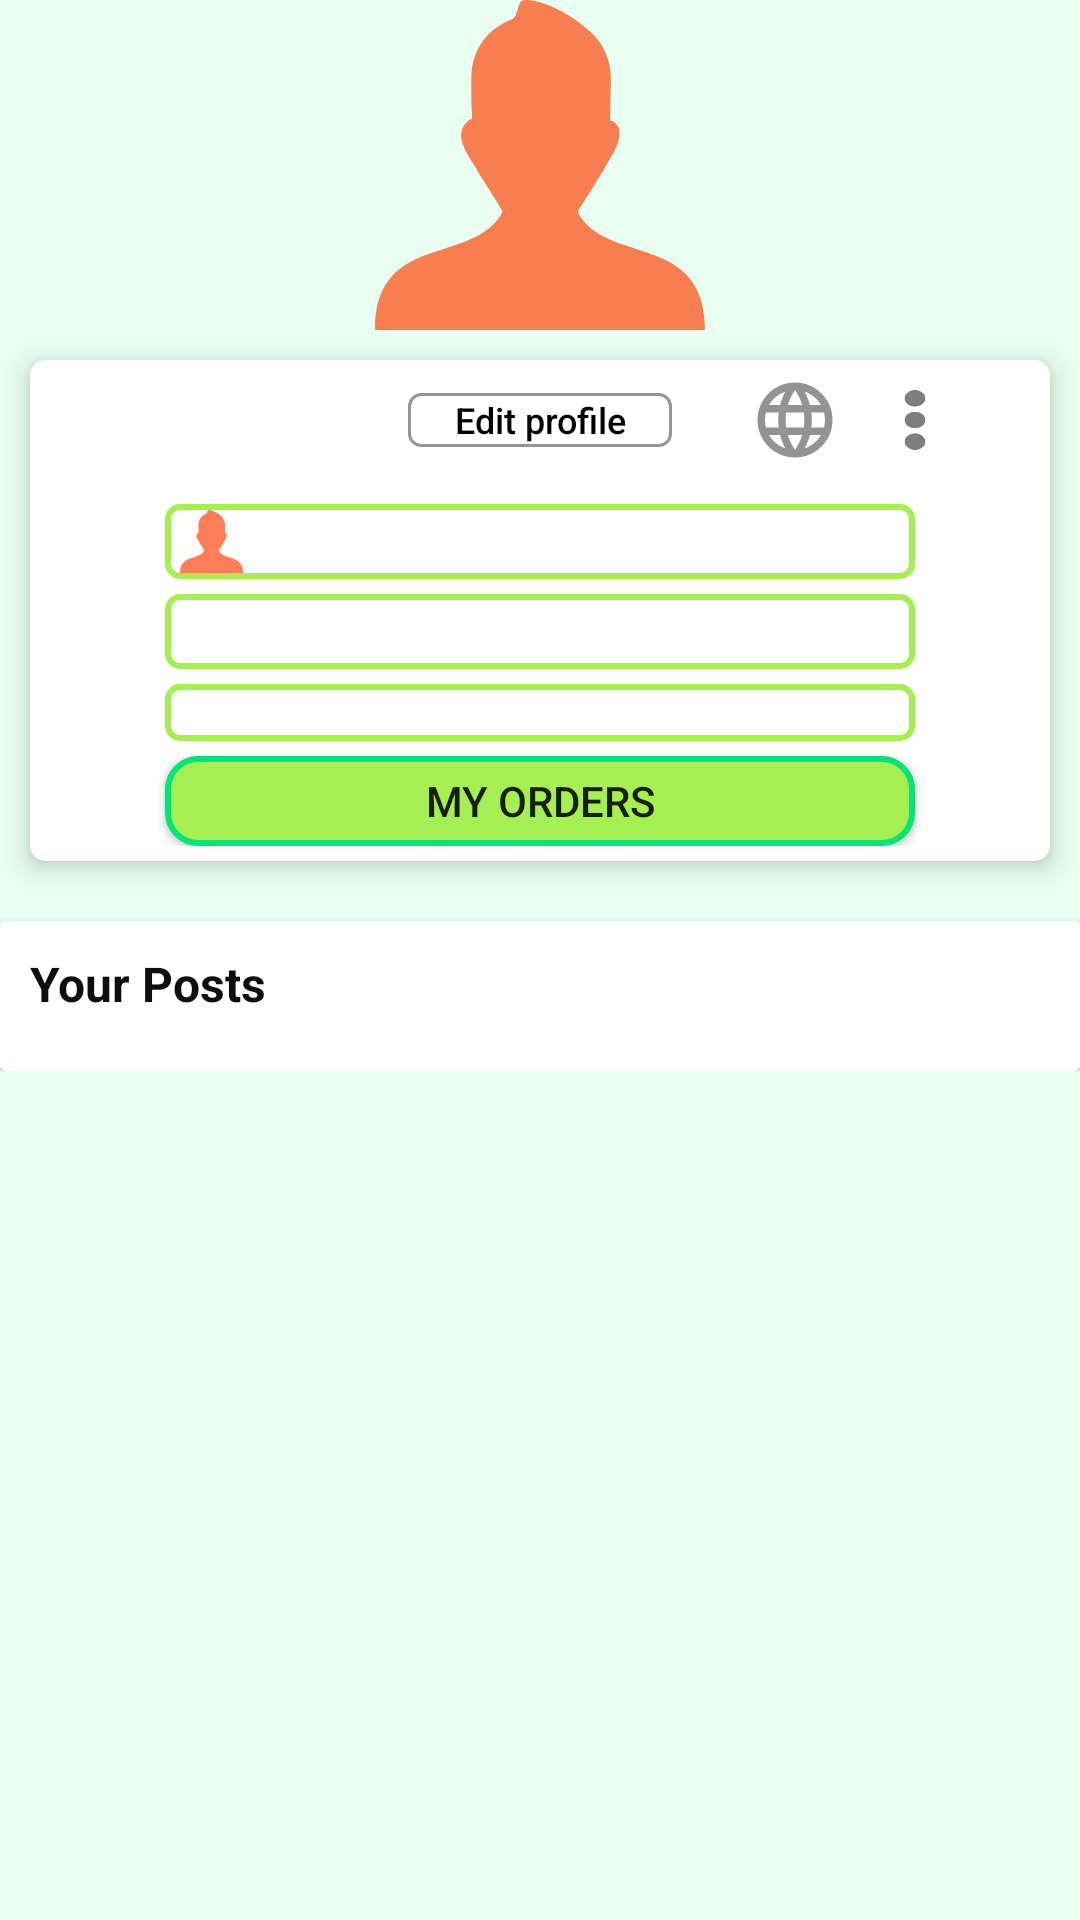

Named icons in this screenshot (1080x1920) and their bounding boxes, bbox=[x1, y1, x2, y2]:
language: bbox=[757, 382, 833, 458]
menudots: bbox=[904, 390, 926, 450]
user: bbox=[375, 0, 705, 330]
